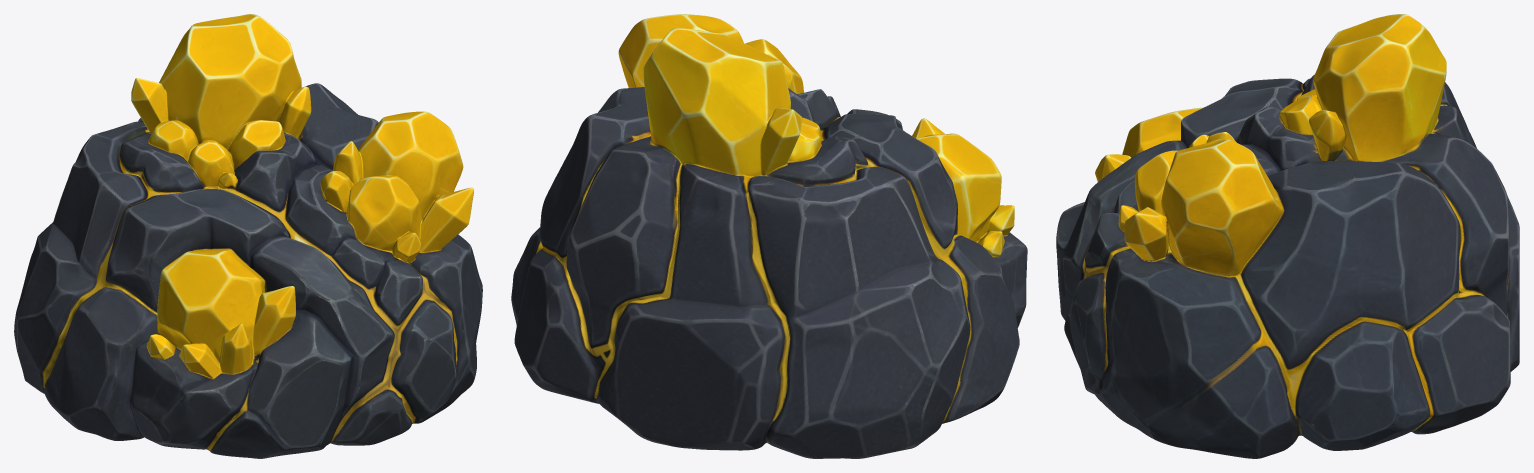
The model's file is PocketForge_GoldOre_Imported.glb.
3 views of the same model, side by side, from view 1: azimuth 30°, elevation 25°; view 2: azimuth 150°, elevation 25°; view 3: azimuth 270°, elevation 25° (orthographic). The views are drawn at different scales.
Size of the model in its own units: 1.9 by 1.51 by 1.81.
Materials: 1 (1 with a texture image).
